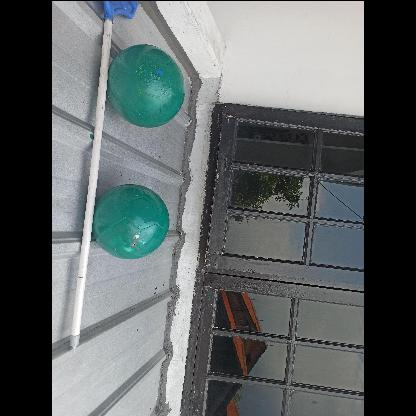green_ball: (107, 42, 190, 126), (92, 182, 168, 260)
